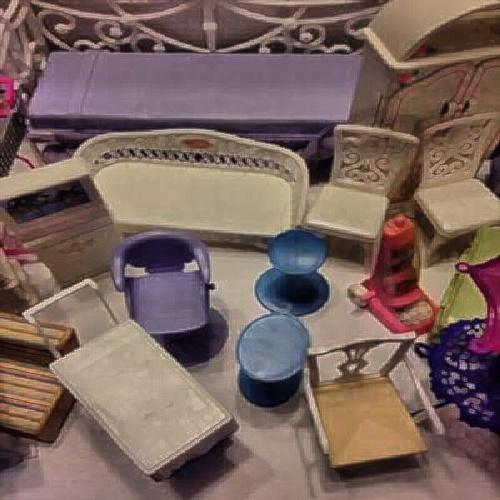table: (59, 338, 236, 479), (88, 132, 299, 241)
